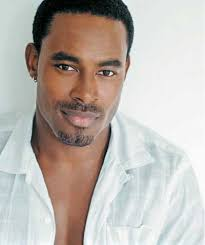black_male: (20, 1, 136, 156)
